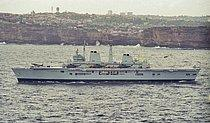MIL_Ship: (9, 44, 202, 82)
